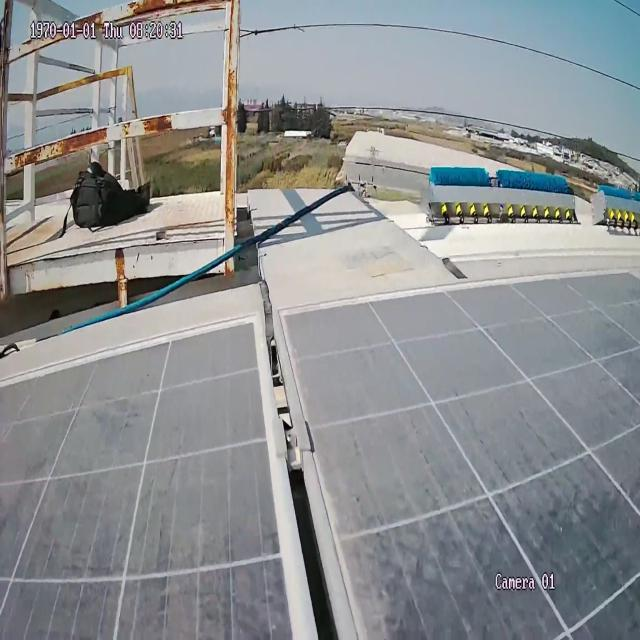interior panel: (227, 298, 392, 640)
outher panel: (0, 0, 640, 333)
